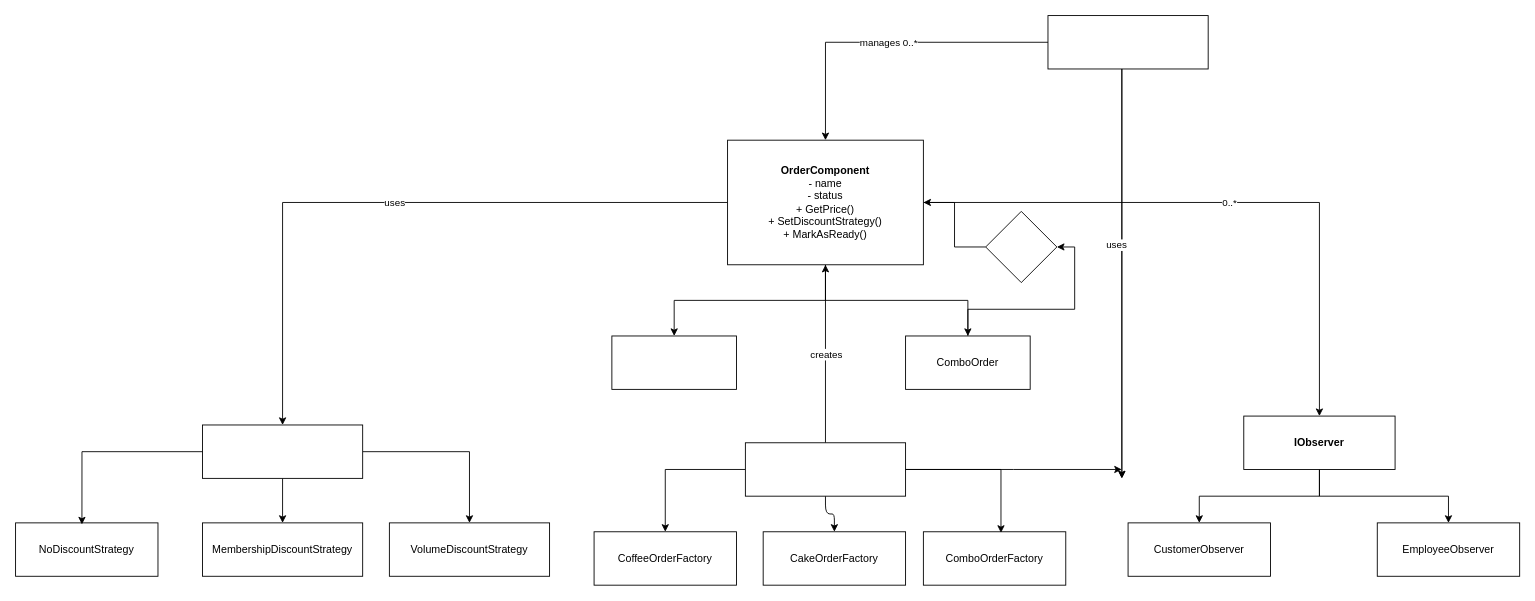
Some shapes in this 1535 by 601 pixel diagram are drawn without their labels. Here are the shapes that lost their labels. From the top down, the centre of each, then its label:
the point at 1127,42: OrderManager
the point at 1021,246: contains 0..*
the point at 673,362: SimpleOrder
the point at 282,451: IDiscountStrategy
the point at 825,469: OrderFactory
